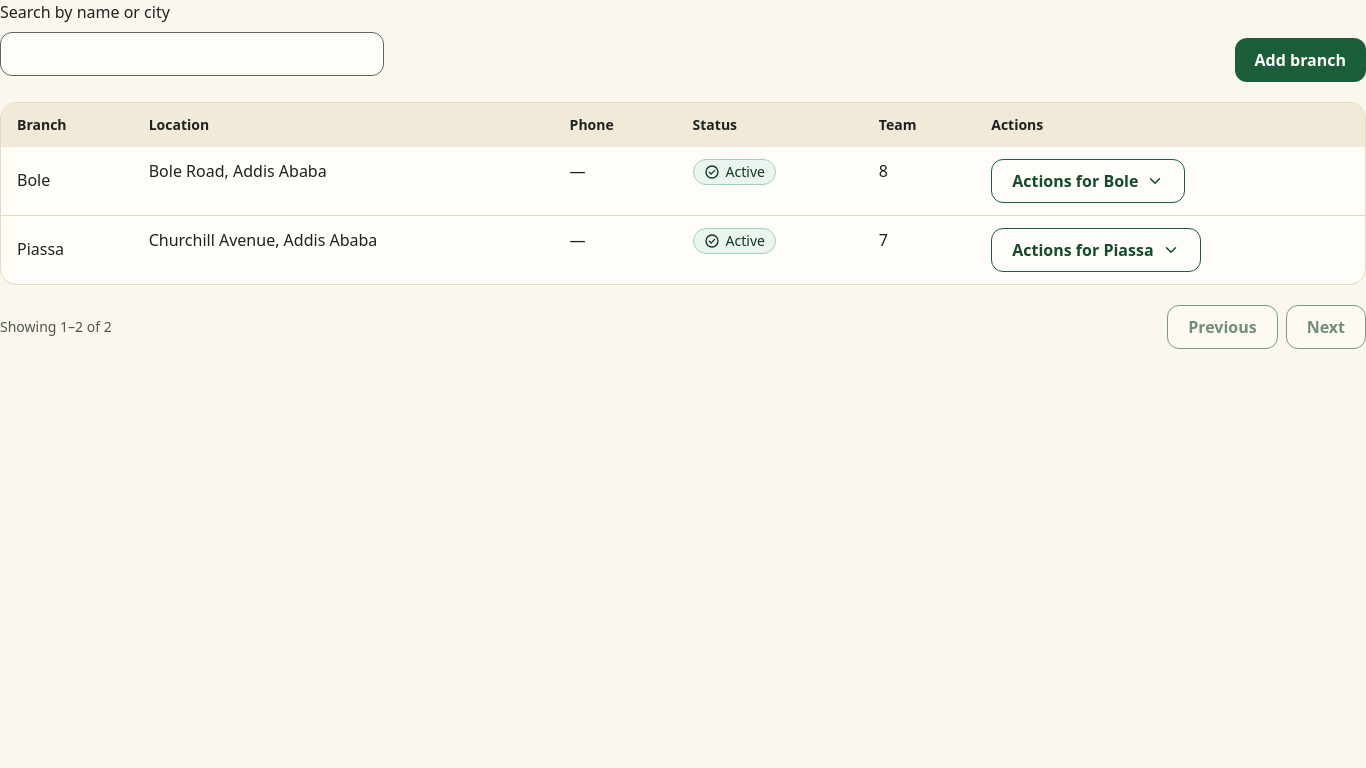
Test: as an owner › edits a branch and sends only what changed
Click the button "Actions for Bole" at (1088, 181), box [991,159,1185,203]
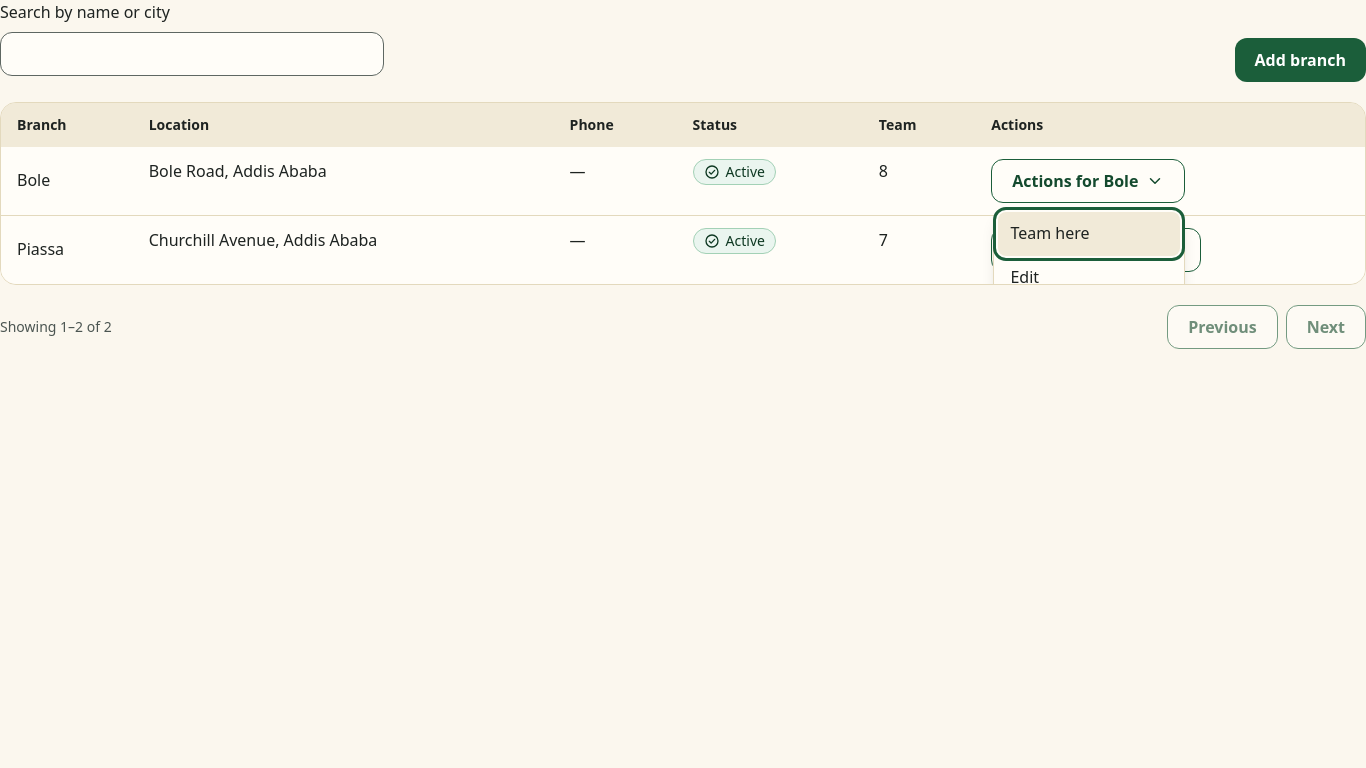
Click the menu item "Edit" at (1089, 278), box [998,256,1180,300]
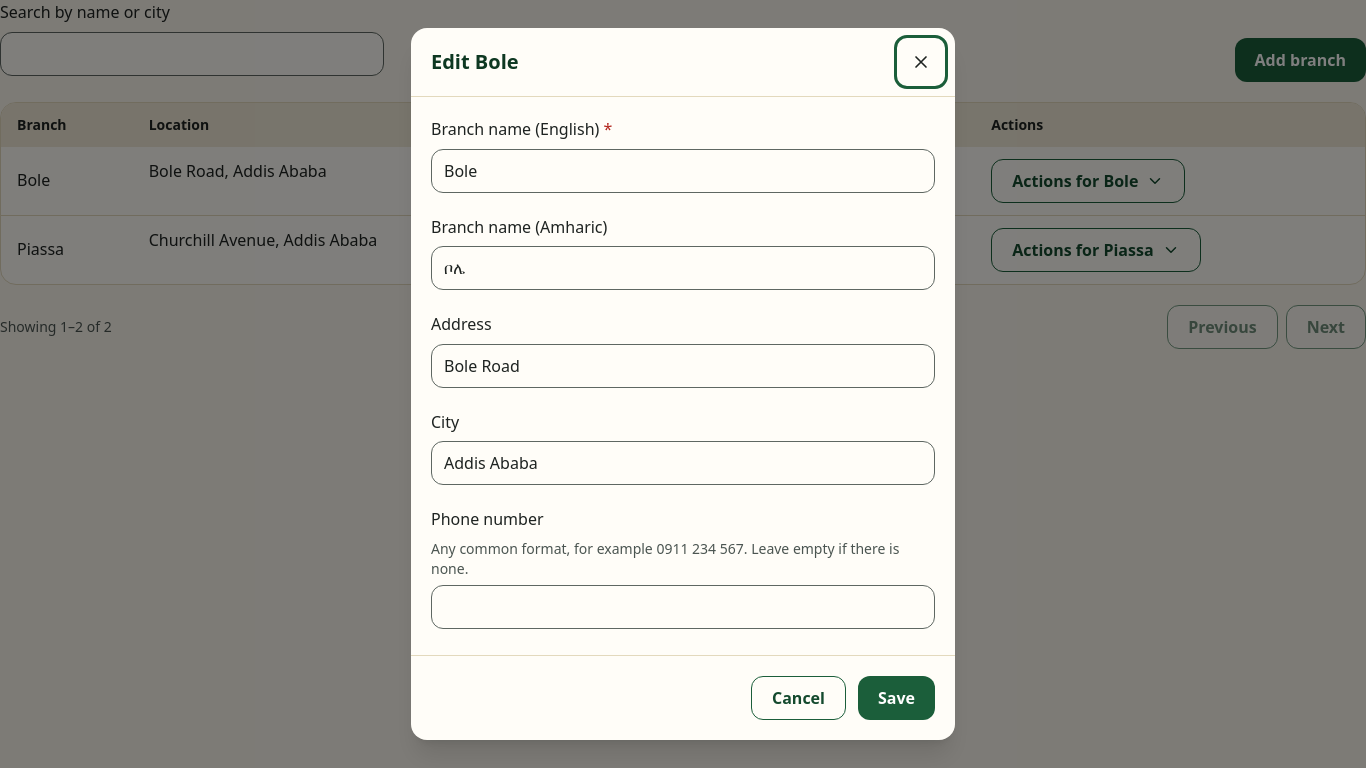
Replace the text in the field labelled "City" with "Bole Sub-city" at (683, 463), box [431,441,935,485]
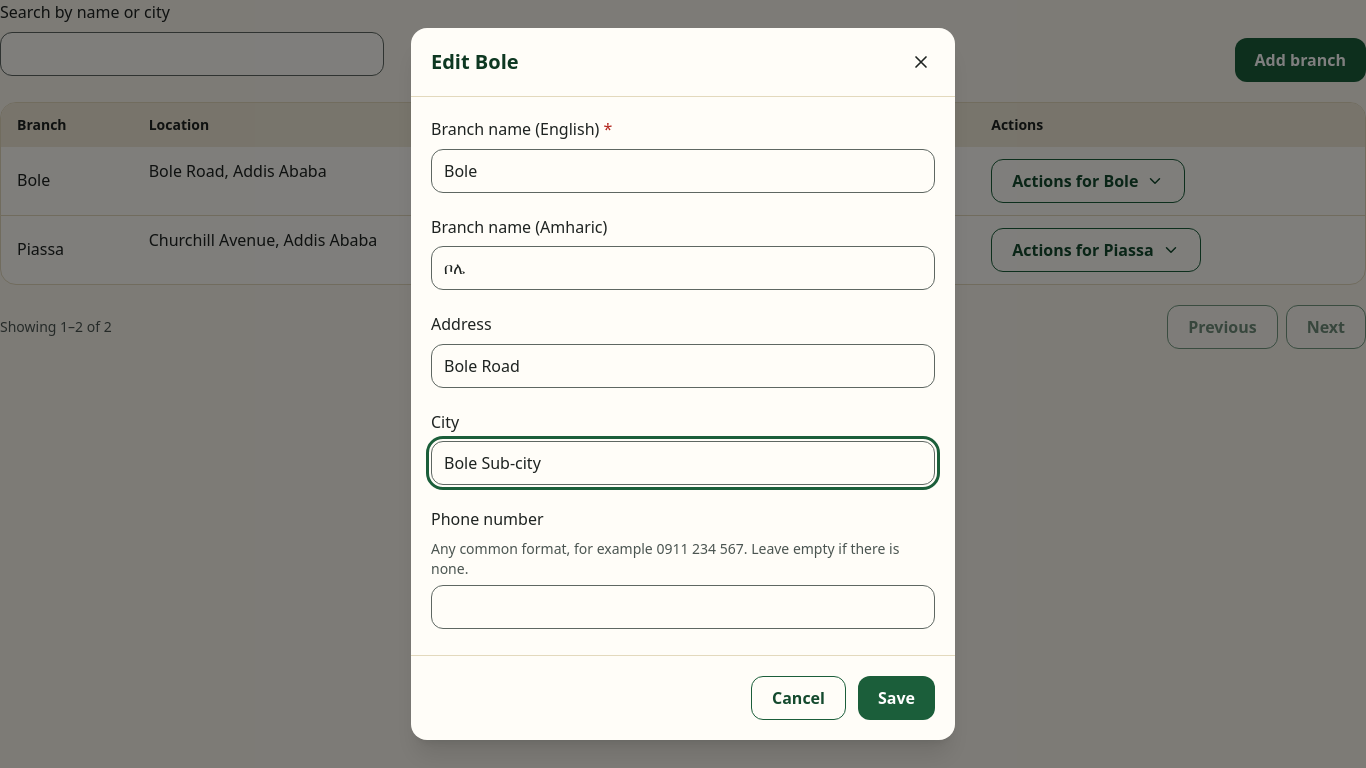
Click the button "Save" at (896, 698), box [858,676,935,720]
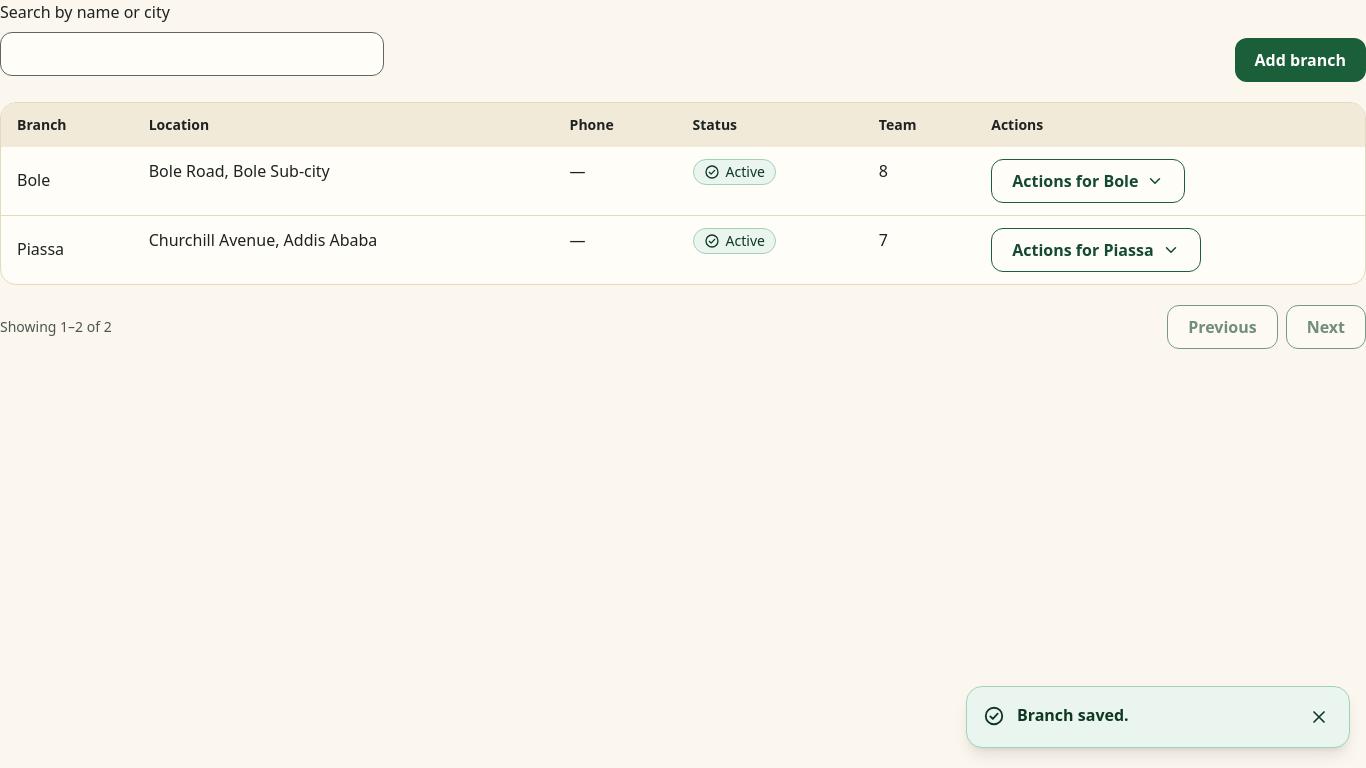
Expected: the row "Bole Bole Road, Bole Sub-city — Active 8 Actions for Bole" is shown, [1,147,1365,215]
